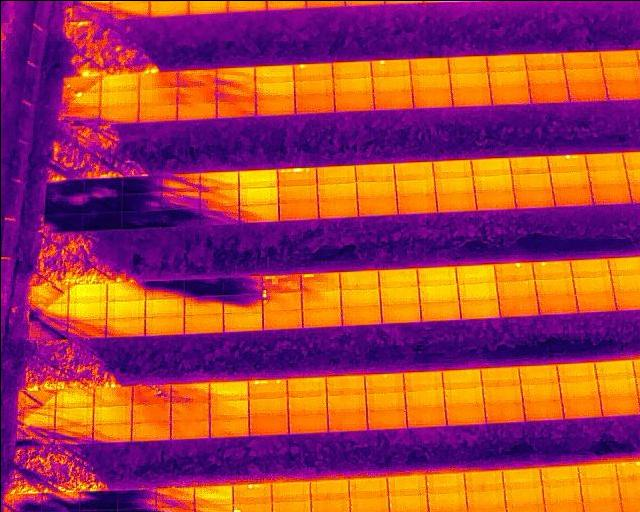Cell: (365, 373, 404, 393), (494, 262, 534, 280), (370, 58, 409, 76), (294, 62, 333, 80), (62, 76, 100, 92), (62, 92, 100, 107)
Cell-Multi: (232, 483, 271, 504), (248, 378, 287, 398), (277, 167, 316, 187), (547, 154, 587, 172), (262, 292, 301, 310), (301, 273, 340, 291), (532, 260, 573, 277), (262, 274, 300, 292), (525, 53, 563, 70)
No-Anomaly: (503, 488, 544, 510), (271, 480, 310, 502), (310, 478, 349, 500), (578, 463, 617, 485), (580, 484, 620, 505), (426, 472, 466, 493), (348, 476, 386, 498), (466, 491, 505, 512), (444, 387, 483, 408), (543, 485, 580, 507), (442, 368, 482, 388), (387, 475, 425, 496), (465, 470, 503, 491), (193, 486, 232, 506), (209, 417, 248, 437), (131, 403, 170, 423), (302, 306, 341, 326), (405, 389, 444, 409), (325, 375, 364, 395), (403, 371, 442, 391), (575, 292, 616, 311), (542, 465, 579, 486), (458, 300, 501, 318), (596, 359, 634, 379), (222, 311, 262, 330), (455, 263, 495, 282), (248, 416, 288, 435), (326, 395, 366, 414), (209, 380, 247, 400), (287, 376, 325, 396), (481, 366, 519, 386), (519, 364, 557, 384), (498, 297, 540, 315), (68, 283, 107, 302), (279, 201, 318, 220), (427, 493, 466, 512), (248, 397, 287, 416), (600, 396, 639, 415), (366, 392, 405, 411), (93, 387, 132, 406), (483, 386, 522, 405), (521, 383, 560, 402), (278, 184, 317, 203), (355, 162, 394, 181), (412, 88, 451, 107), (569, 258, 610, 276), (457, 282, 498, 300), (419, 300, 460, 318), (379, 304, 420, 322), (495, 279, 538, 296), (558, 362, 596, 381), (560, 382, 598, 401), (552, 187, 590, 206), (503, 469, 541, 488), (169, 420, 209, 438), (406, 409, 446, 427), (484, 405, 524, 423), (378, 268, 418, 286), (341, 305, 381, 323), (183, 314, 223, 332), (393, 161, 433, 179), (533, 277, 575, 294), (144, 297, 183, 315), (340, 269, 379, 287), (536, 294, 575, 312), (106, 299, 145, 317), (144, 315, 183, 333), (332, 60, 371, 78), (409, 56, 448, 74), (131, 423, 170, 441), (288, 415, 327, 433), (366, 411, 405, 429), (106, 318, 145, 336), (287, 397, 326, 415), (436, 194, 475, 212), (513, 190, 552, 208), (590, 186, 629, 204), (356, 181, 395, 199), (238, 169, 277, 187), (316, 165, 355, 183), (471, 157, 510, 175), (510, 155, 549, 173), (99, 104, 138, 122), (137, 103, 176, 121), (295, 94, 334, 112), (490, 86, 529, 104), (416, 266, 457, 283), (411, 71, 449, 89), (372, 74, 410, 92), (255, 64, 293, 82), (563, 51, 601, 69), (171, 402, 209, 420), (475, 191, 513, 209), (512, 172, 550, 190), (433, 159, 471, 177), (587, 152, 623, 171), (334, 92, 372, 110), (100, 88, 138, 106), (530, 84, 568, 102), (327, 414, 367, 431), (340, 288, 380, 305), (379, 286, 419, 303), (317, 200, 357, 217), (486, 54, 526, 71), (357, 198, 397, 215), (238, 187, 278, 204), (176, 102, 216, 119), (301, 291, 340, 308), (488, 70, 527, 87), (448, 55, 487, 72), (600, 49, 639, 66), (149, 1, 188, 18), (388, 495, 427, 512), (93, 423, 132, 440), (445, 408, 484, 425), (262, 311, 301, 328), (523, 402, 562, 419), (209, 400, 248, 417), (397, 196, 436, 213), (316, 183, 355, 200), (396, 179, 435, 196), (550, 171, 589, 188), (588, 169, 627, 186), (255, 98, 294, 115), (137, 86, 176, 103), (567, 83, 606, 100), (571, 276, 612, 292), (418, 284, 459, 300), (450, 71, 488, 88), (93, 406, 131, 423), (527, 68, 565, 85), (562, 401, 600, 418), (598, 380, 636, 397), (373, 92, 411, 109), (255, 80, 293, 97), (67, 302, 107, 318), (473, 174, 512, 190), (332, 77, 371, 93), (606, 81, 640, 99), (565, 68, 603, 84), (434, 177, 472, 193), (452, 89, 490, 105), (294, 79, 332, 95), (603, 66, 640, 82), (101, 74, 138, 90), (349, 497, 388, 512)
Shadowing: (55, 387, 94, 408), (170, 381, 209, 402), (117, 487, 156, 508), (132, 384, 171, 404), (156, 486, 193, 507), (16, 424, 54, 444), (44, 212, 83, 231), (222, 293, 261, 312), (183, 295, 222, 314), (121, 210, 162, 228), (30, 282, 68, 301), (78, 490, 116, 509), (162, 172, 200, 191), (200, 170, 238, 189), (222, 275, 262, 293), (122, 192, 162, 210), (201, 206, 238, 225), (17, 389, 54, 408), (29, 318, 68, 336), (39, 492, 78, 510), (44, 194, 83, 212), (216, 82, 255, 100), (72, 0, 110, 18), (55, 407, 93, 425), (162, 191, 200, 209), (238, 204, 278, 221), (176, 85, 216, 102), (83, 212, 120, 230), (144, 280, 183, 297), (183, 278, 222, 295), (177, 69, 216, 86), (161, 209, 200, 226), (215, 66, 254, 83), (110, 0, 149, 17), (216, 100, 255, 117), (106, 283, 144, 300), (55, 426, 93, 443), (29, 302, 67, 319), (67, 319, 105, 336), (17, 408, 55, 425), (84, 195, 122, 212), (200, 189, 238, 206), (83, 178, 121, 195), (122, 176, 162, 192), (3, 494, 39, 511), (139, 71, 177, 87), (61, 106, 99, 122), (45, 181, 83, 195)
